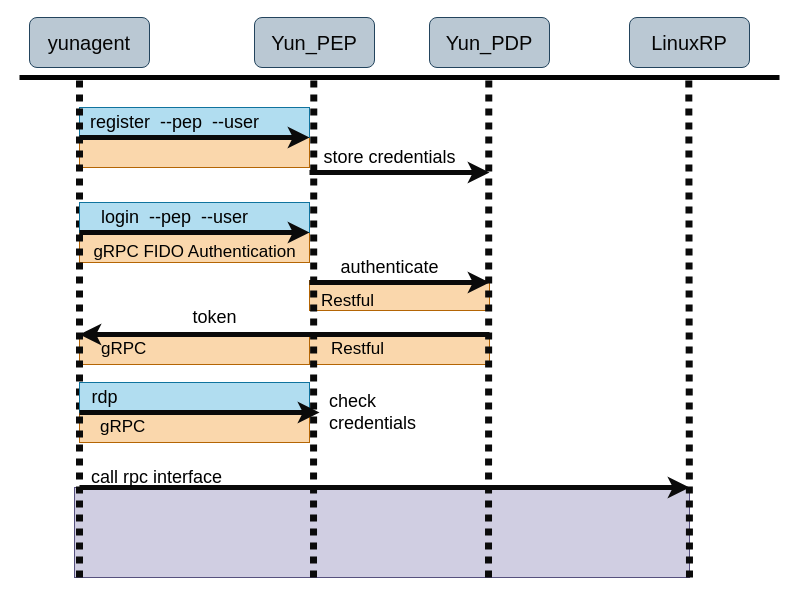
This 800x599 diagram has some shape labels left out. The shapes that lost their labels are listed below. From the top down, each one's centre as x and y in pixels, then its label:
[194,152]: gRPC FIDO register
[382,532]: tunnel
